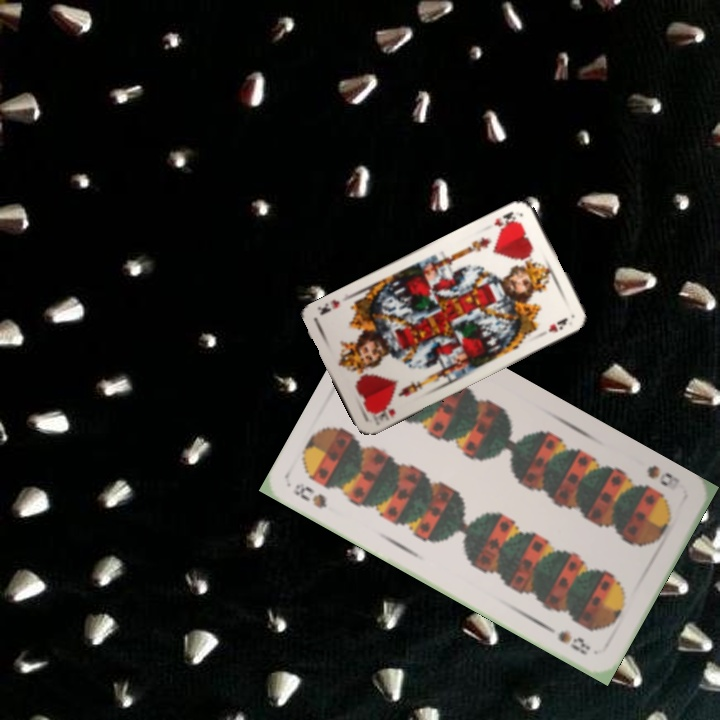HK: (490, 207, 520, 233), (370, 404, 398, 423)
S8: (289, 479, 330, 511), (643, 461, 675, 489)
